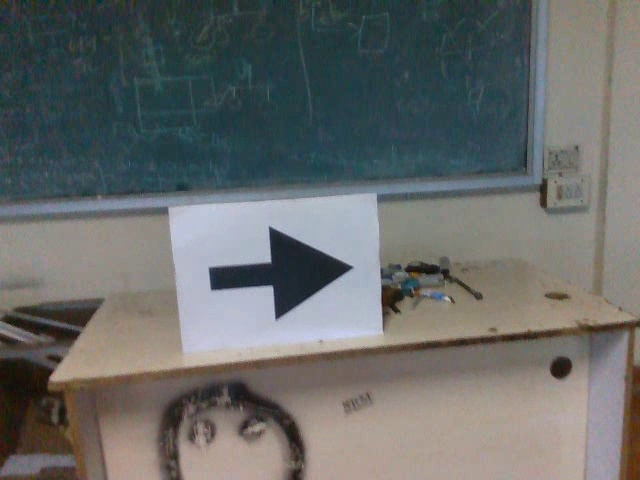Right: (203, 221, 361, 324)
